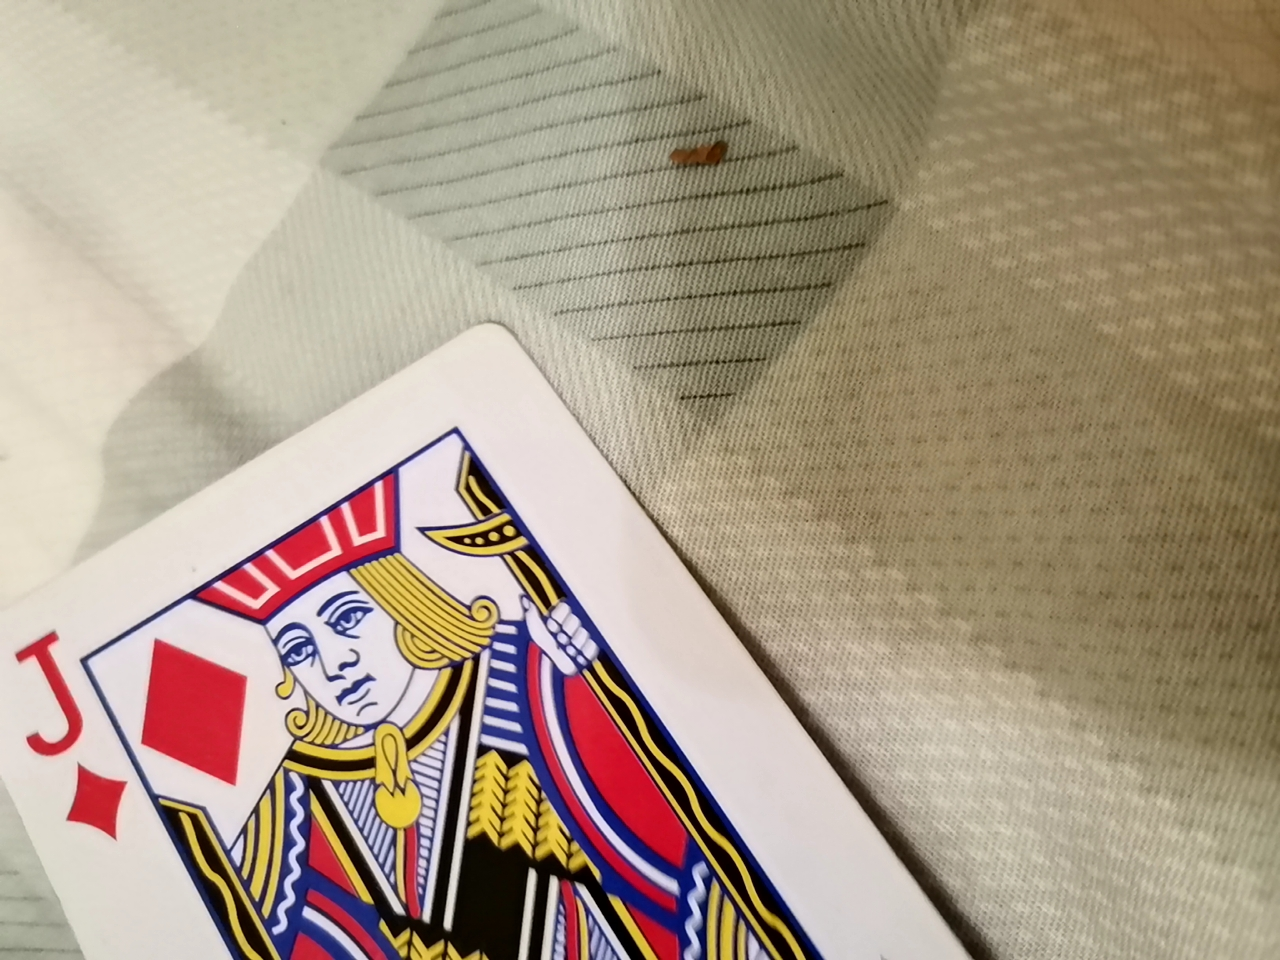fk j: (0, 311, 1114, 955)
